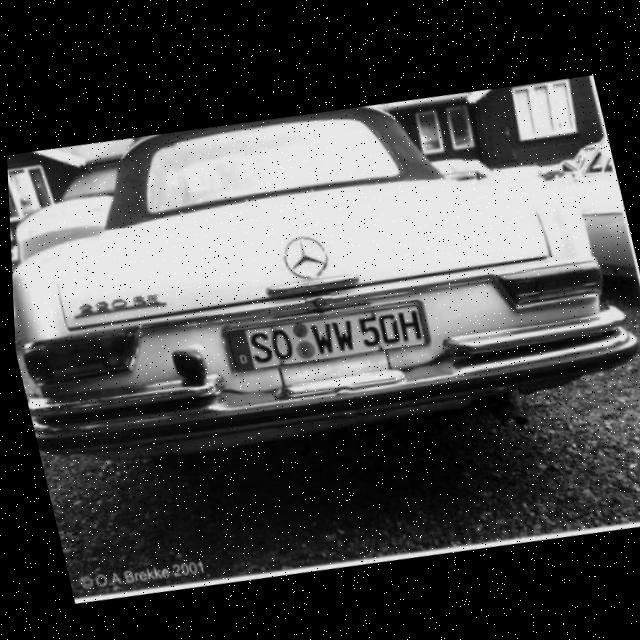license-plates: (226, 303, 429, 372)
